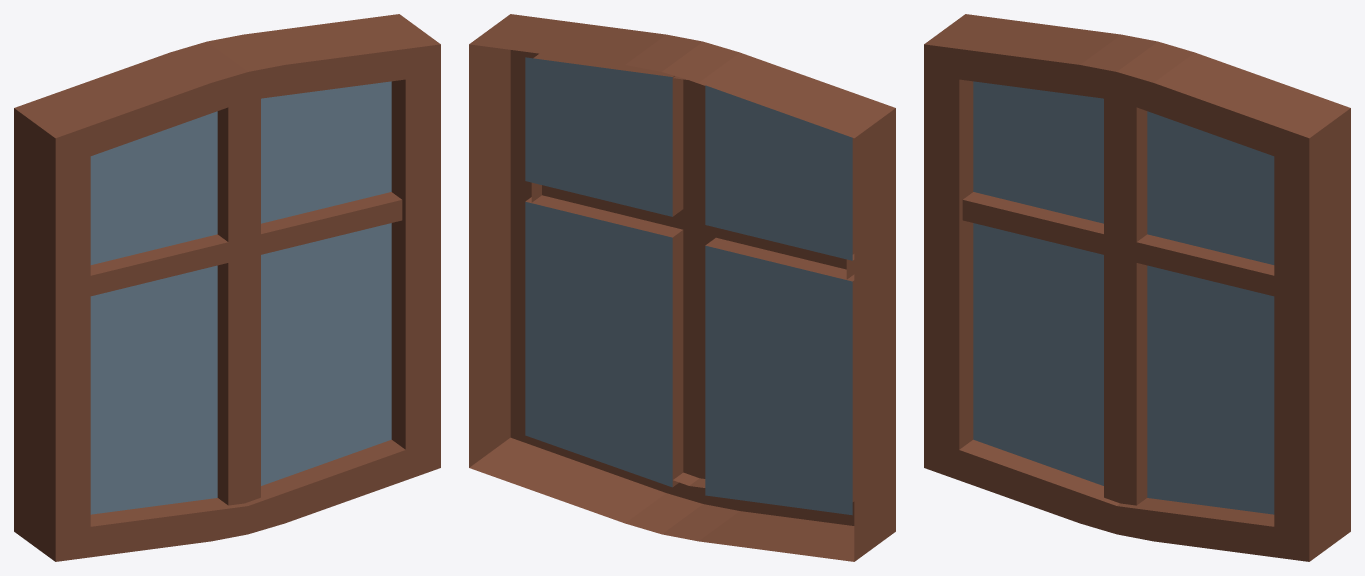
The model's file is Window.glb.
The picture shows the model from 3 angles, left to right: view 1: azimuth 30°, elevation 25°; view 2: azimuth 150°, elevation 25°; view 3: azimuth 330°, elevation 25°; orthographic projection.
Visible parts, largest first — view 1: Window; view 2: Window; view 3: Window.
Part boxes in pixels (x1,y1,x2,y2): Window: (14, 14, 440, 561); Window: (469, 14, 895, 561); Window: (924, 14, 1350, 561).
Size of the model in its own units: 0.3027 by 0.3471 by 0.0564.
1 material, 1 textured.
